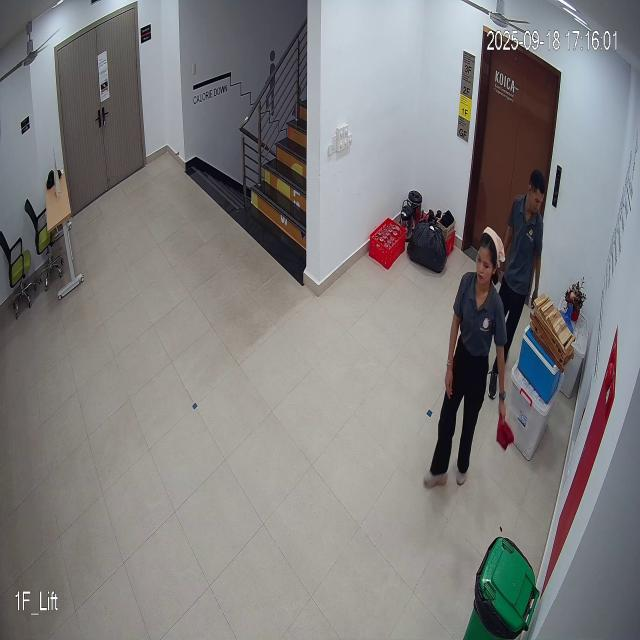face: (476, 218, 502, 294)
